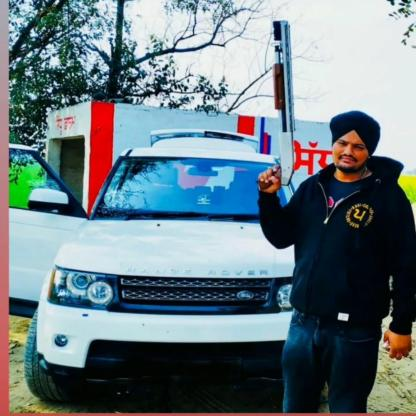rifle: (254, 19, 298, 194)
